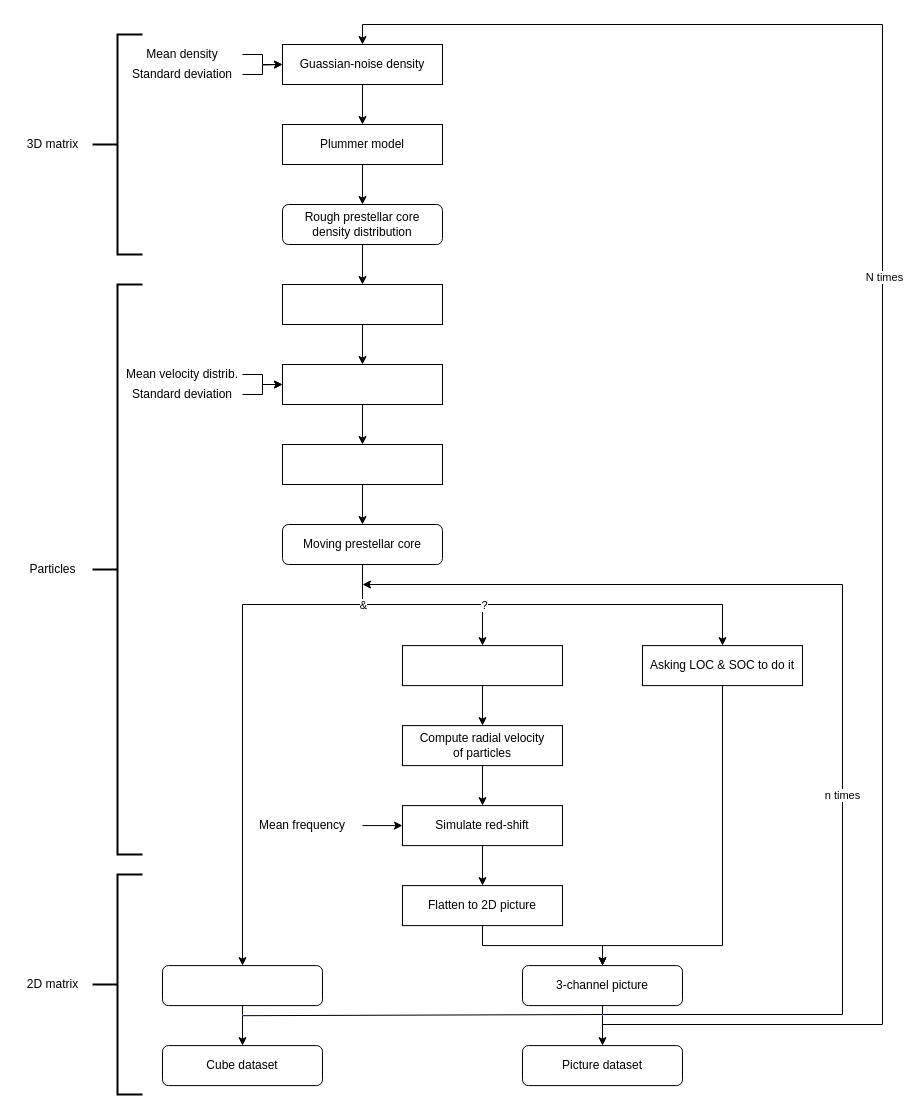
This 920x1113 diagram has some shape labels left out. Here are the shapes that lost their labels. From the top down, the box of each, then its label:
(282, 284, 442, 324): Generate particles
(282, 364, 442, 404): Generate initial speed
(282, 444, 442, 484): Short N-body integration
(402, 645, 562, 686): Select random observation angle
(162, 965, 322, 1006): Velocity and density data cubes
